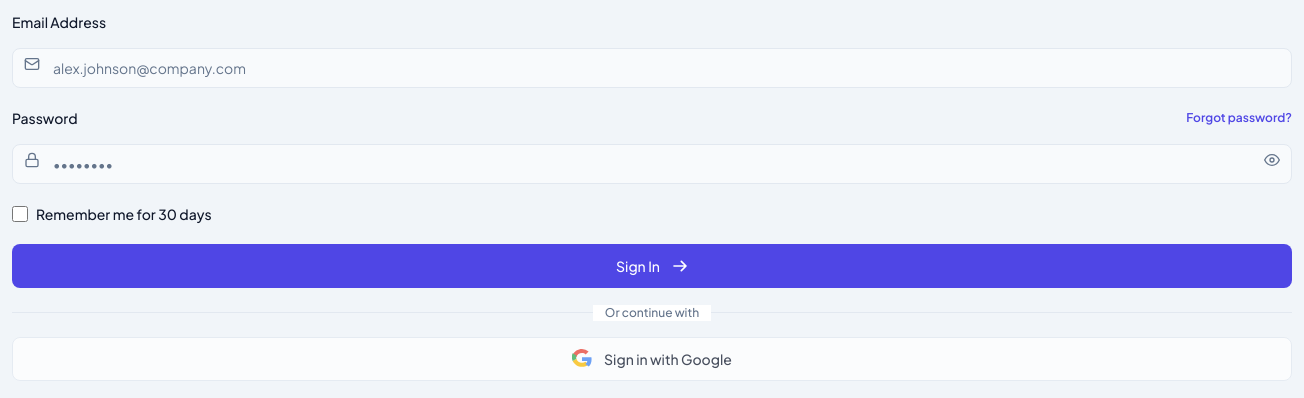
Test case: LoginForm › logs in successfully and shows a brief success state
In the field labelled "Email Address": (652, 68) [12, 48, 1292, 88], type "admin@timeforge.test"
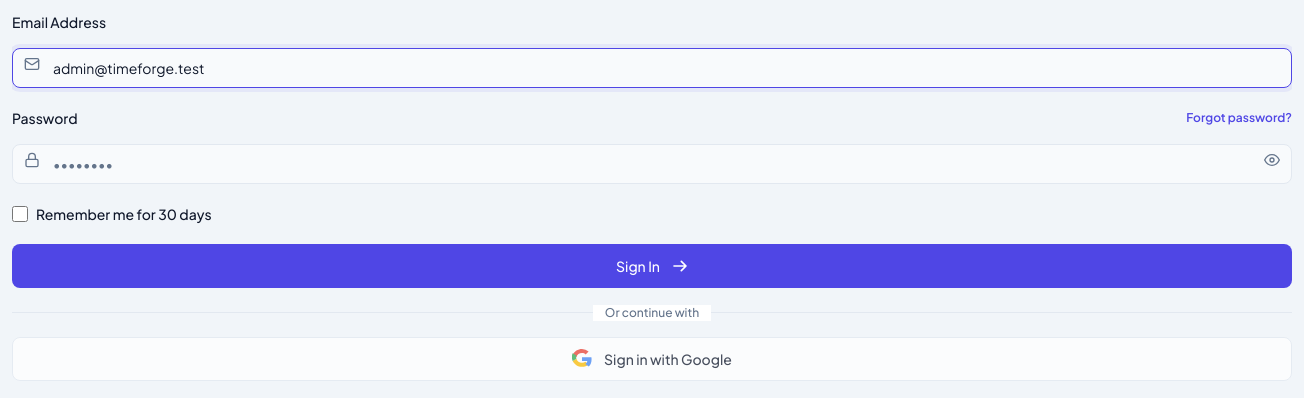
In the password field labelled "Password": (652, 164) [12, 144, 1292, 184], type "password"
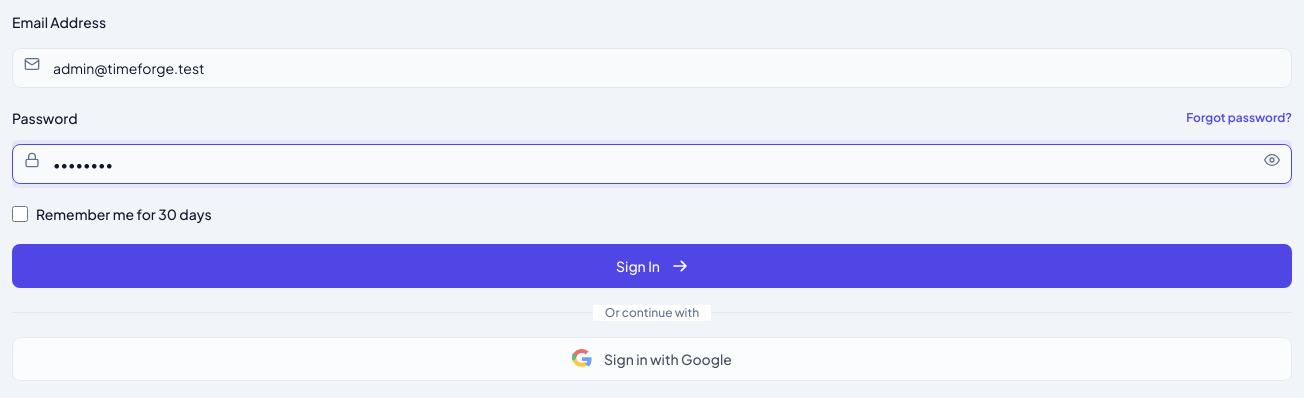
Click the button with aria-label "Log In": click(652, 266) [12, 244, 1292, 288]
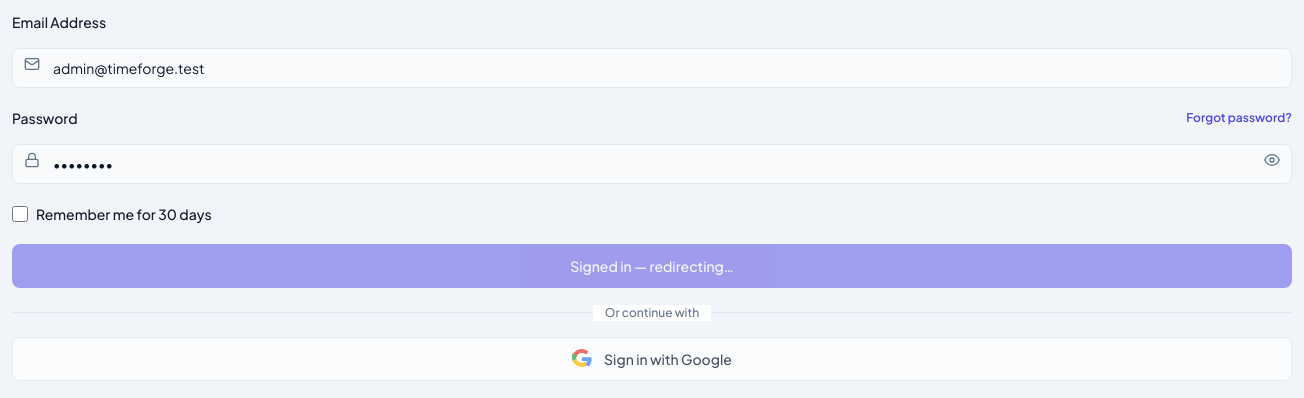
Result: the button "Signed in — redirecting…" is shown at [12, 244, 1292, 288]
